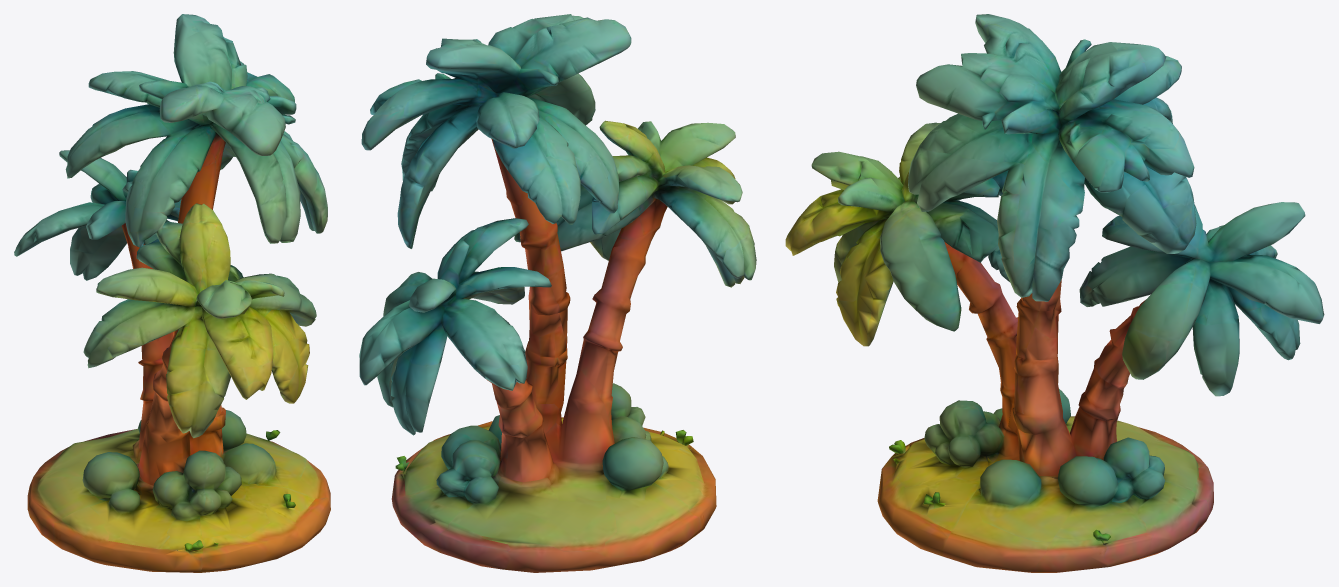
Rendered from palm-cluster.glb.
The picture shows the model from 3 angles, left to right: view 1: azimuth 30°, elevation 25°; view 2: azimuth 150°, elevation 25°; view 3: azimuth 270°, elevation 25°; orthographic projection. The views are drawn at different scales.
Visible parts, largest first — view 1: tripo_node_ccc531fe-ebc8-4a50-ae92-cdd02dfb6496; view 2: tripo_node_ccc531fe-ebc8-4a50-ae92-cdd02dfb6496; view 3: tripo_node_ccc531fe-ebc8-4a50-ae92-cdd02dfb6496.
Part boxes in pixels (<box>): tripo_node_ccc531fe-ebc8-4a50-ae92-cdd02dfb6496: <box>14,14,330,572</box>; tripo_node_ccc531fe-ebc8-4a50-ae92-cdd02dfb6496: <box>359,14,756,572</box>; tripo_node_ccc531fe-ebc8-4a50-ae92-cdd02dfb6496: <box>785,14,1324,572</box>.
Size of the model in its own units: 0.6508 by 0.9987 by 0.9991.
1 material, 1 textured.
